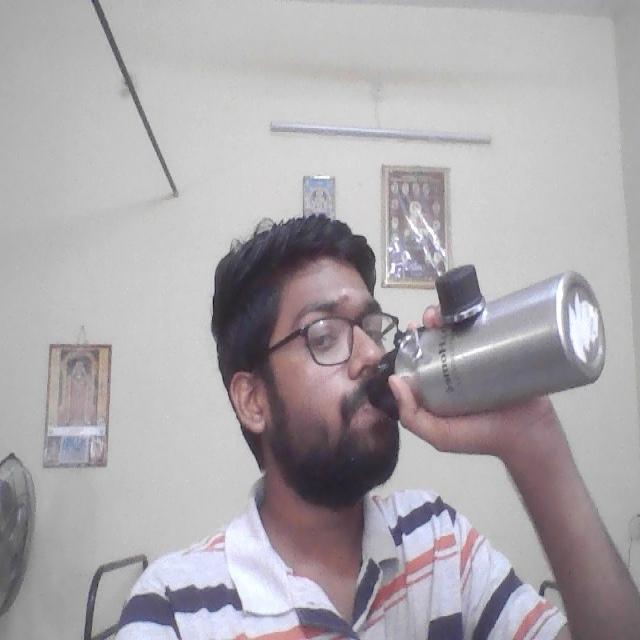Drinking: (367, 253, 614, 430)
